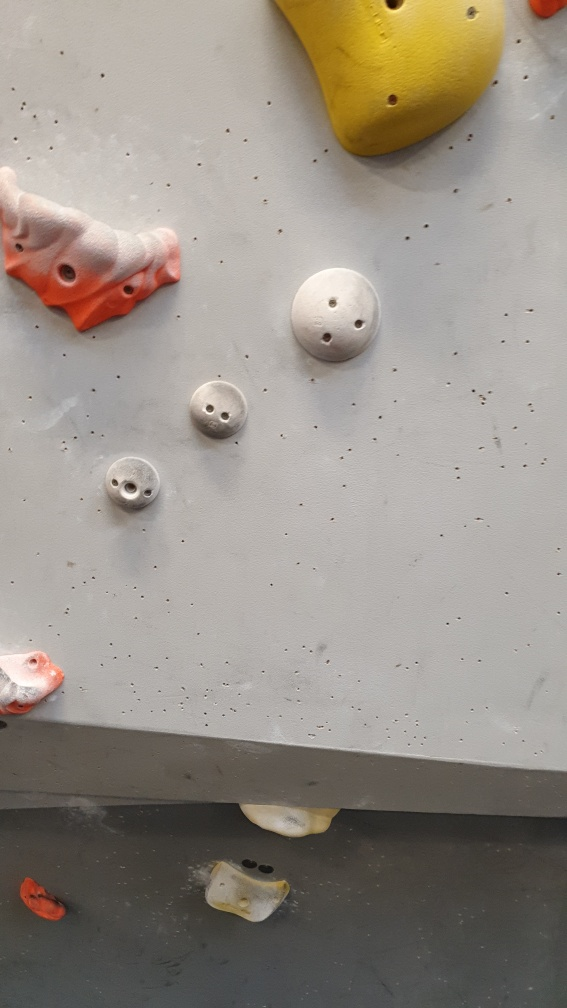Hand Start: (238, 854, 263, 875), (259, 861, 278, 878)
Jug: (1, 150, 187, 340), (15, 869, 70, 928)
Sloper: (289, 261, 387, 369), (102, 451, 168, 517), (186, 376, 253, 441)
